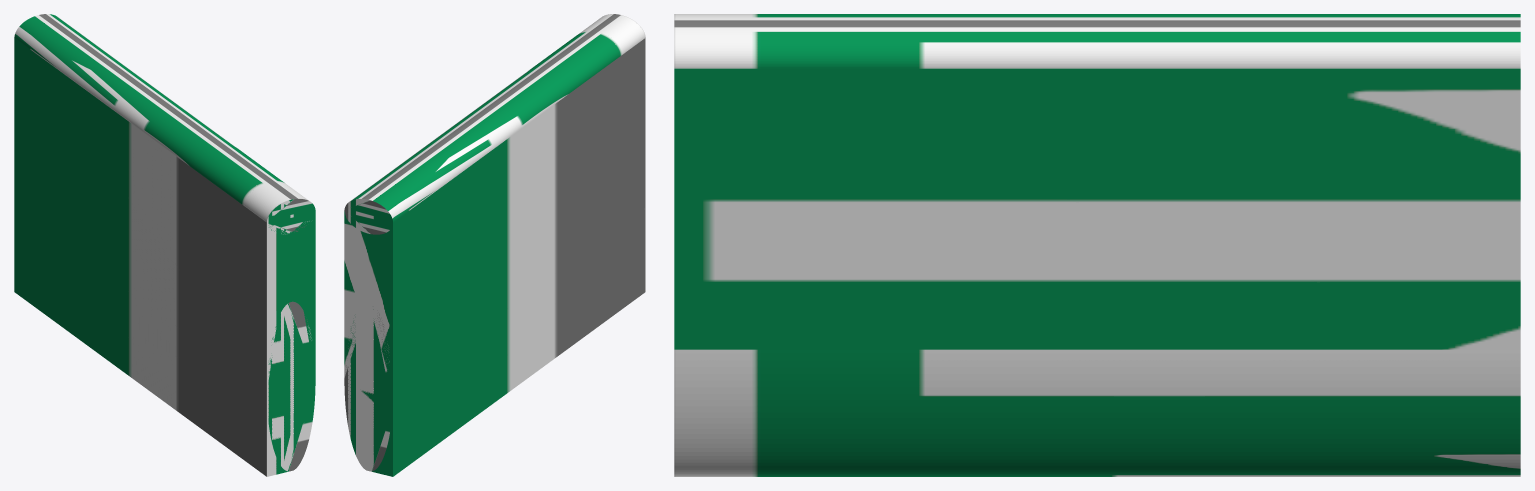
The model's file is fireexitsignwip2.fbx.
The picture shows the model from 3 angles, left to right: view 1: azimuth 30°, elevation 25°; view 2: azimuth 150°, elevation 25°; view 3: azimuth 270°, elevation 25°; orthographic projection. The views are drawn at different scales.
Parts seen in each view (by area): view 1: Cube; view 2: Cube; view 3: Cube.
Boxes of the visible parts, box(x1,y1,x2,y2) form: Cube: box(14, 14, 315, 476); Cube: box(344, 14, 645, 476); Cube: box(674, 14, 1520, 476).
Bounding box in the file's own units: 3 × 16 × 27.
1 material, 1 textured.
